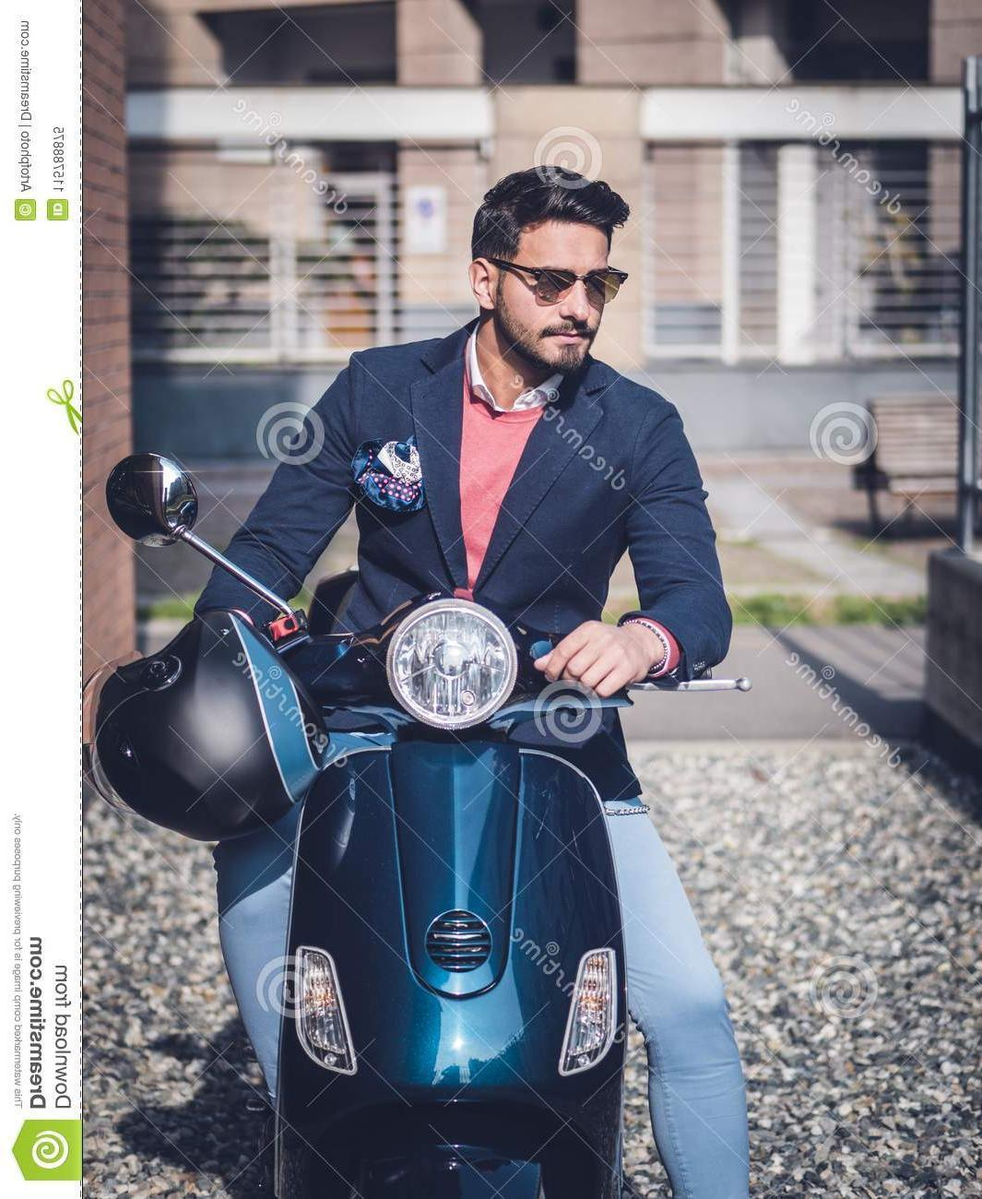nohelmet: (466, 165, 631, 380)
